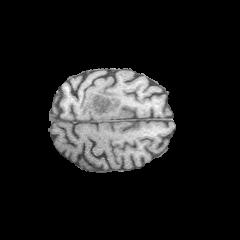glioma: (83, 90, 133, 119)
